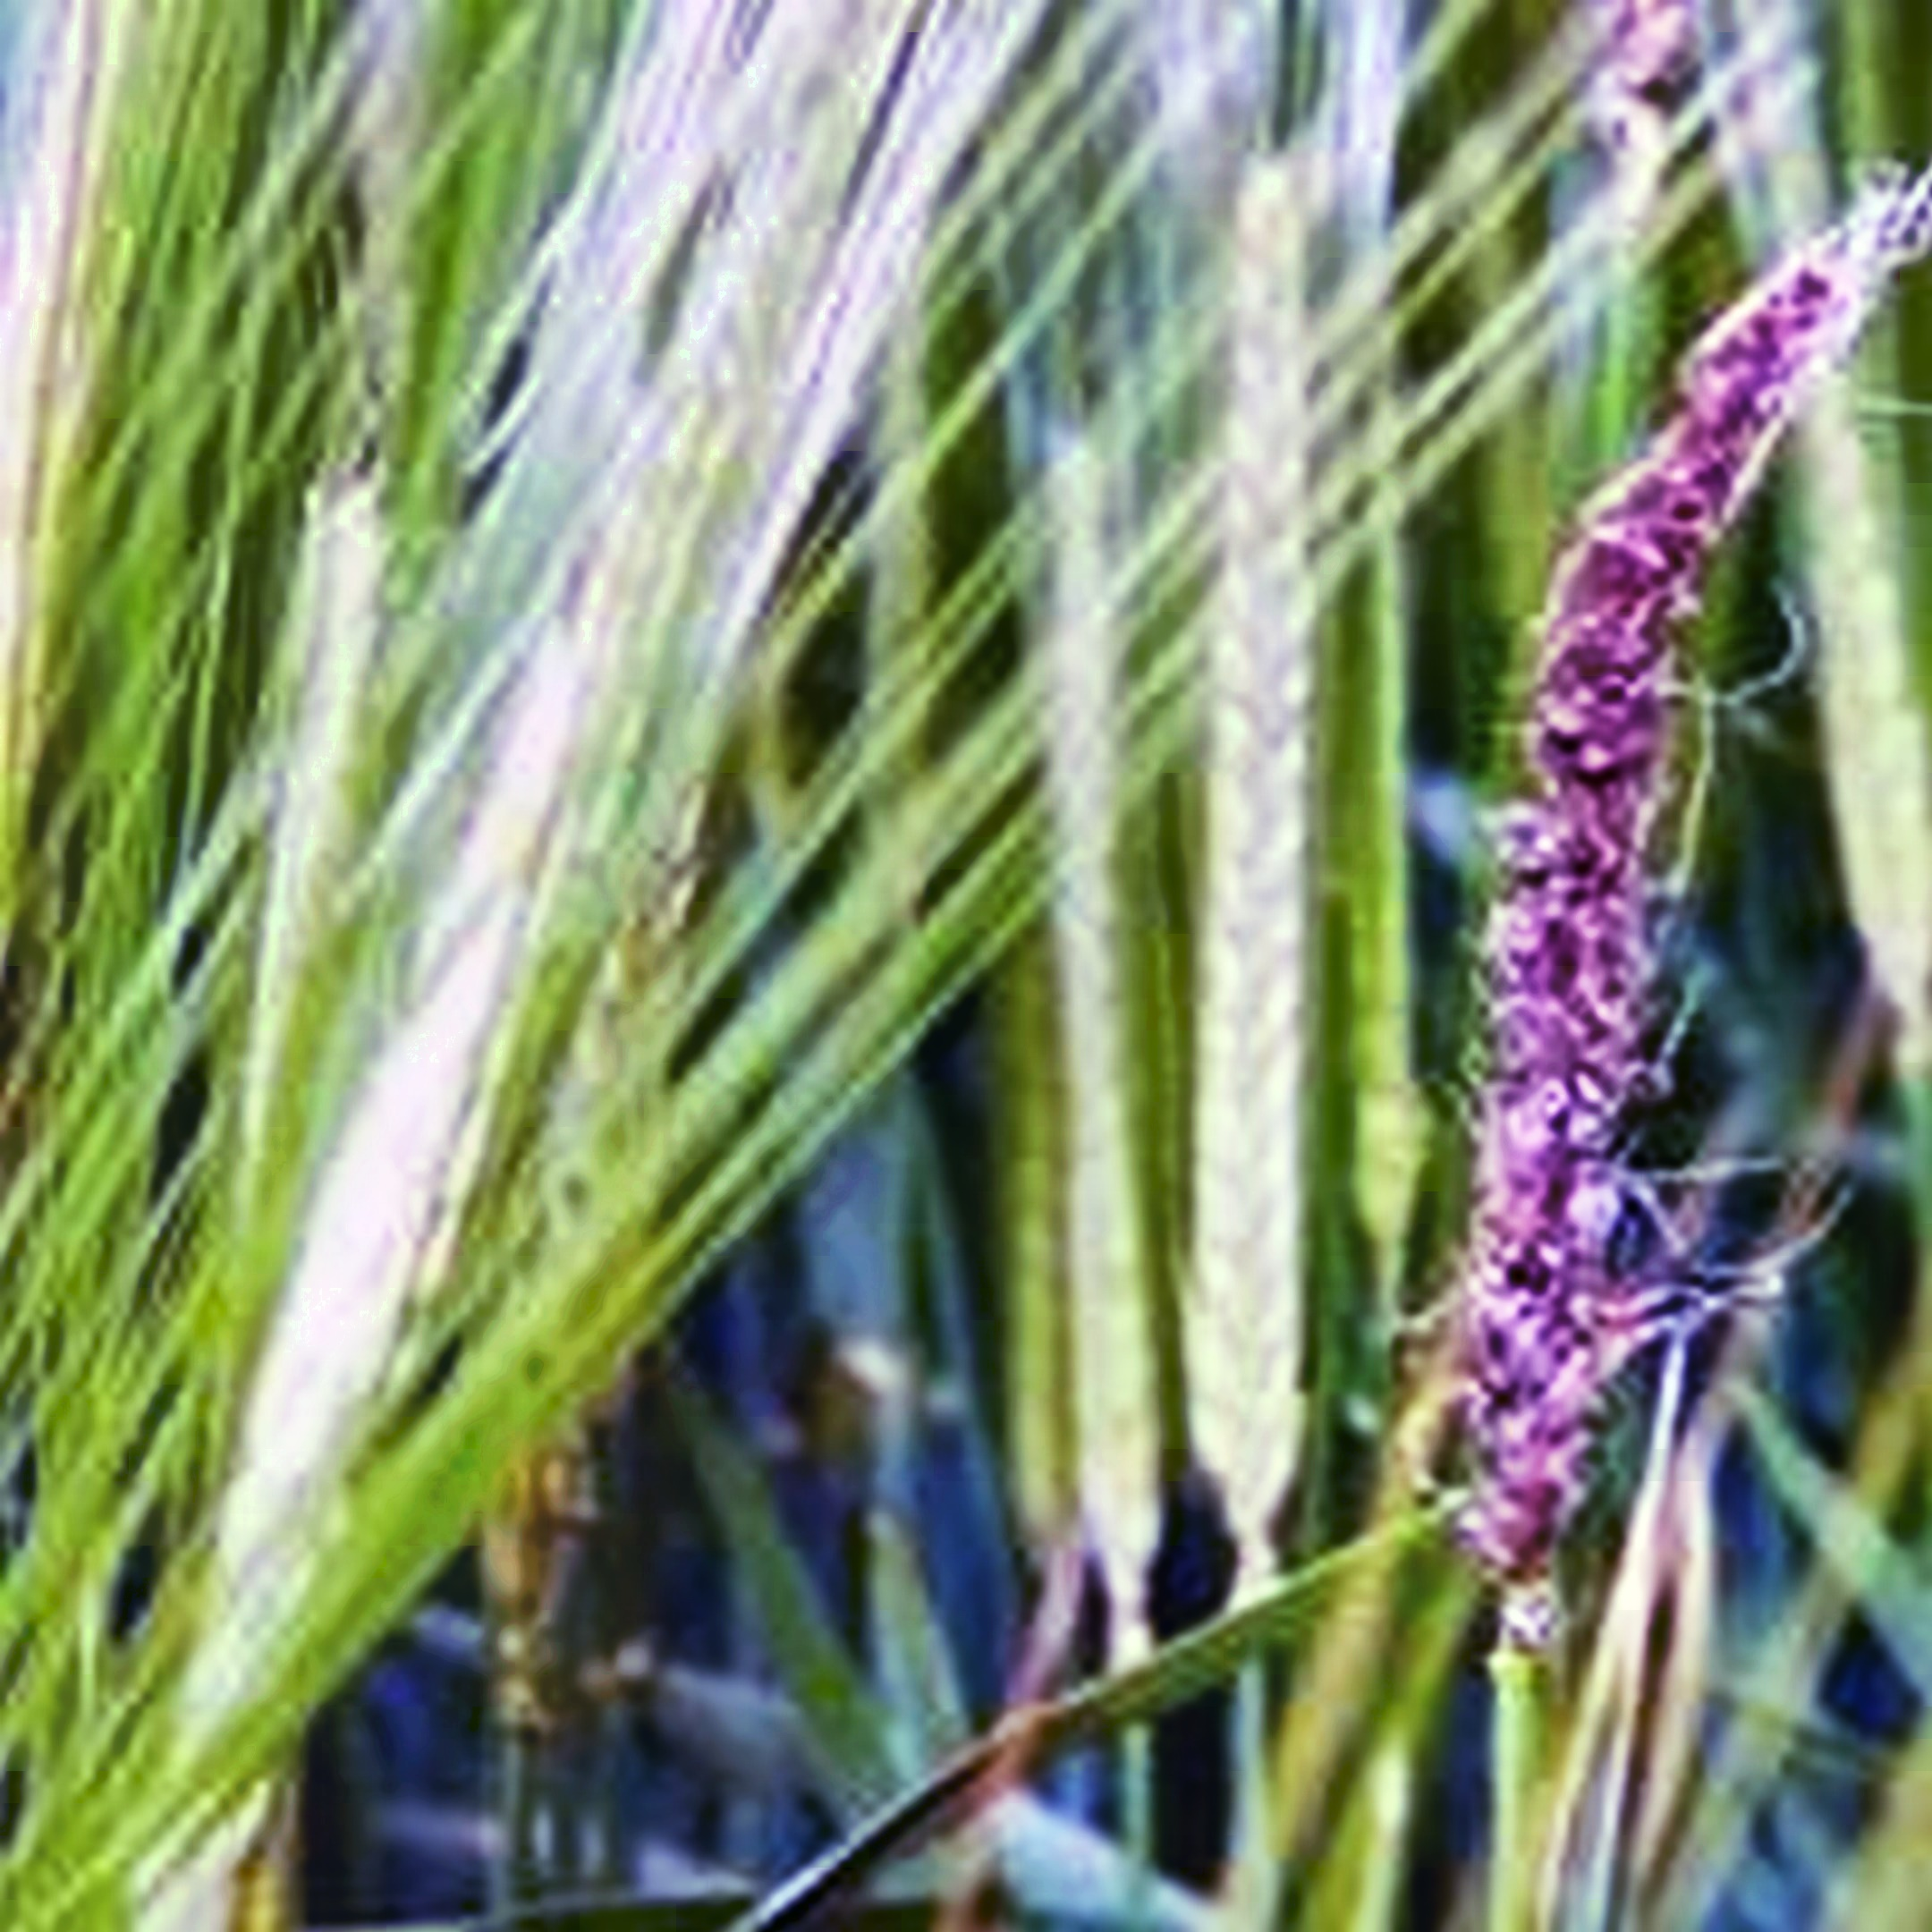Wheat Loose Smut: (1424, 292, 1884, 1608)
